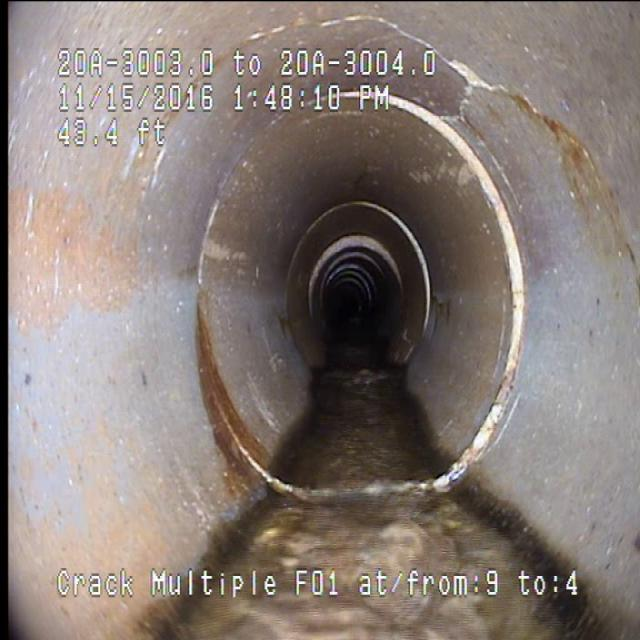Crack: (454, 38, 604, 225)
